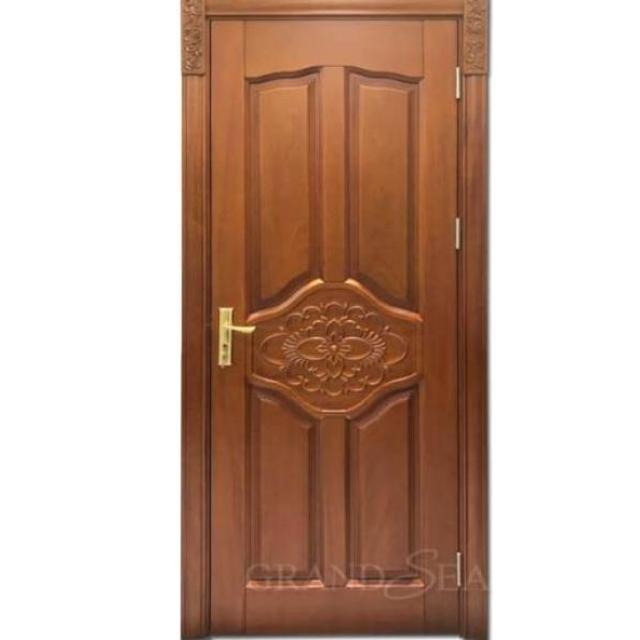door: (179, 0, 489, 639)
